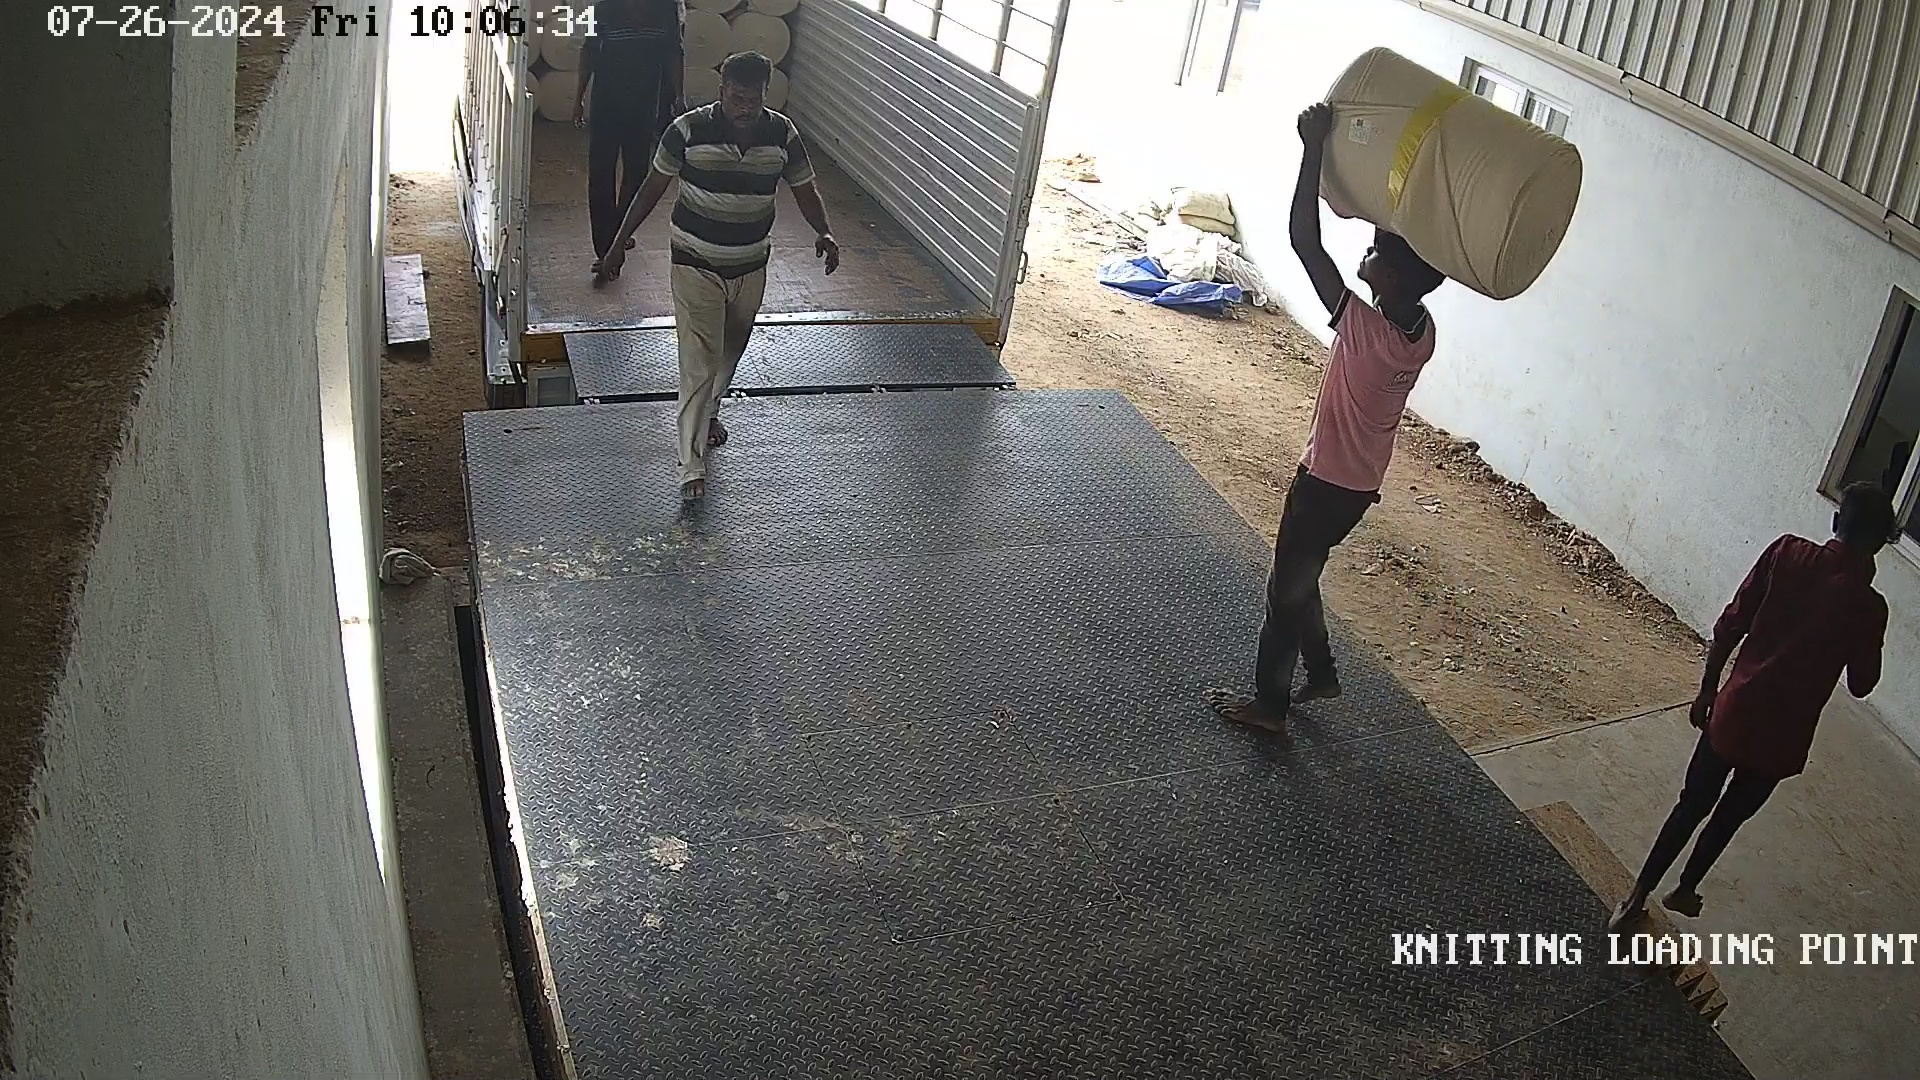bag: (1299, 34, 1604, 303)
